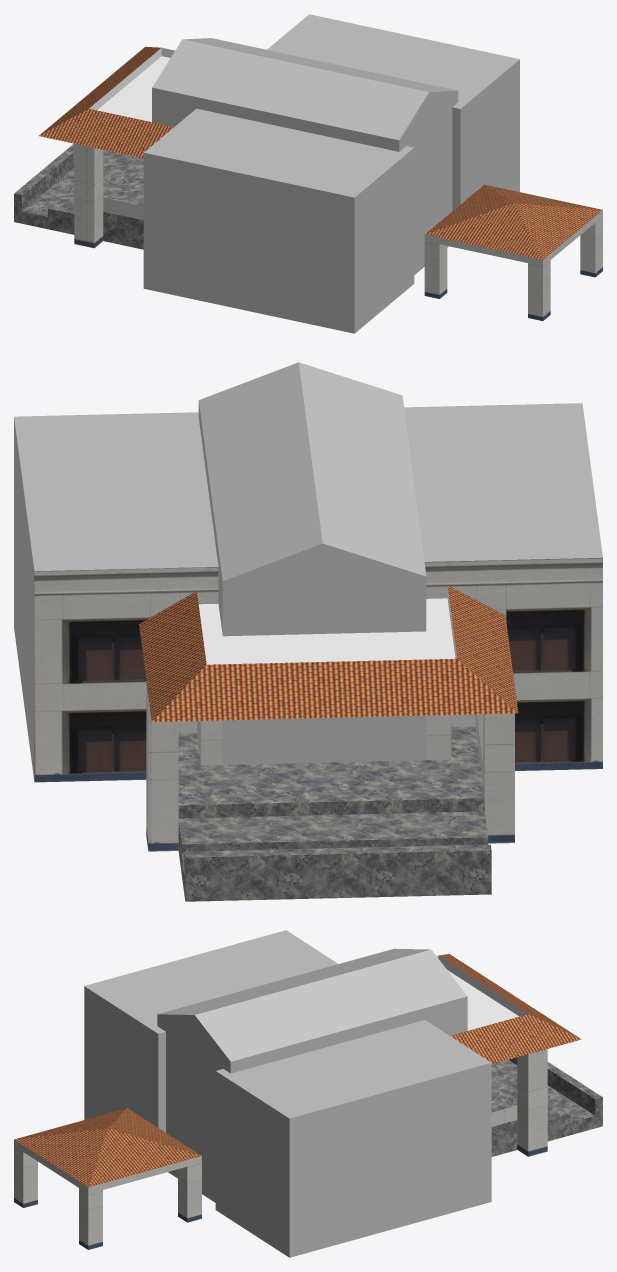
The model's file is aast_president.fbx.
The picture shows the model from 3 angles, top to bottom: view 1: azimuth 30°, elevation 25°; view 2: azimuth 150°, elevation 25°; view 3: azimuth 270°, elevation 25°; orthographic projection. The views are drawn at different scales.
Parts seen in each view (by area): view 1: skp3FA5_1; view 2: skp3FA5_1; view 3: skp3FA5_1.
Boxes of the visible parts, x1,y1,x2,y2 form: skp3FA5_1: [14, 14, 602, 333]; skp3FA5_1: [14, 362, 602, 901]; skp3FA5_1: [14, 930, 602, 1257].
Bounding box in the file's own units: 1310 × 525 × 1607.
